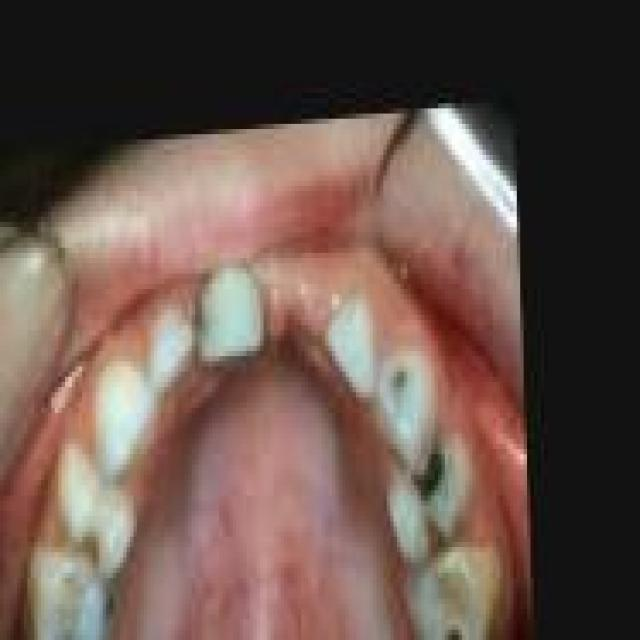caries: (404, 435, 460, 513), (382, 347, 420, 422), (435, 609, 472, 640)
